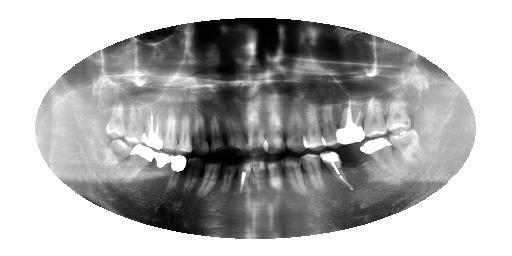67healthy: (284, 99, 309, 157)
i10decay: (218, 154, 238, 199)
i11decay: (195, 155, 221, 204)
i12decay: (181, 146, 204, 202)
i13healthy: (161, 147, 191, 204)
i14loss: (147, 141, 174, 199)
i15healthy: (116, 140, 156, 195)
i16healthy: (95, 134, 132, 172)
i1healthy: (387, 121, 422, 164)
i2healthy: (360, 137, 397, 181)
i3loss: (336, 139, 376, 186)
i4healthy: (317, 146, 356, 196)
i5healthy: (301, 152, 326, 194)
i6healthy: (278, 148, 310, 199)
i7healthy: (265, 155, 287, 196)
i8healthy: (252, 152, 269, 198)
i9healthy: (233, 155, 256, 200)
u10healthy: (204, 93, 228, 158)
u11healthy: (188, 94, 213, 159)
u12healthy: (172, 104, 195, 161)
u13healthy: (160, 105, 179, 156)
u14healthy: (142, 102, 165, 154)
u15healthy: (122, 98, 147, 144)
u16healthy: (101, 87, 129, 146)
u1decay: (383, 86, 413, 135)
u2healthy: (358, 91, 389, 140)
u3healthy: (332, 94, 368, 147)
u4healthy: (314, 99, 344, 156)
u5healthy: (300, 101, 329, 153)
u7healthy: (258, 91, 288, 156)
u8healthy: (238, 93, 271, 159)
u9healthy: (219, 97, 253, 160)
